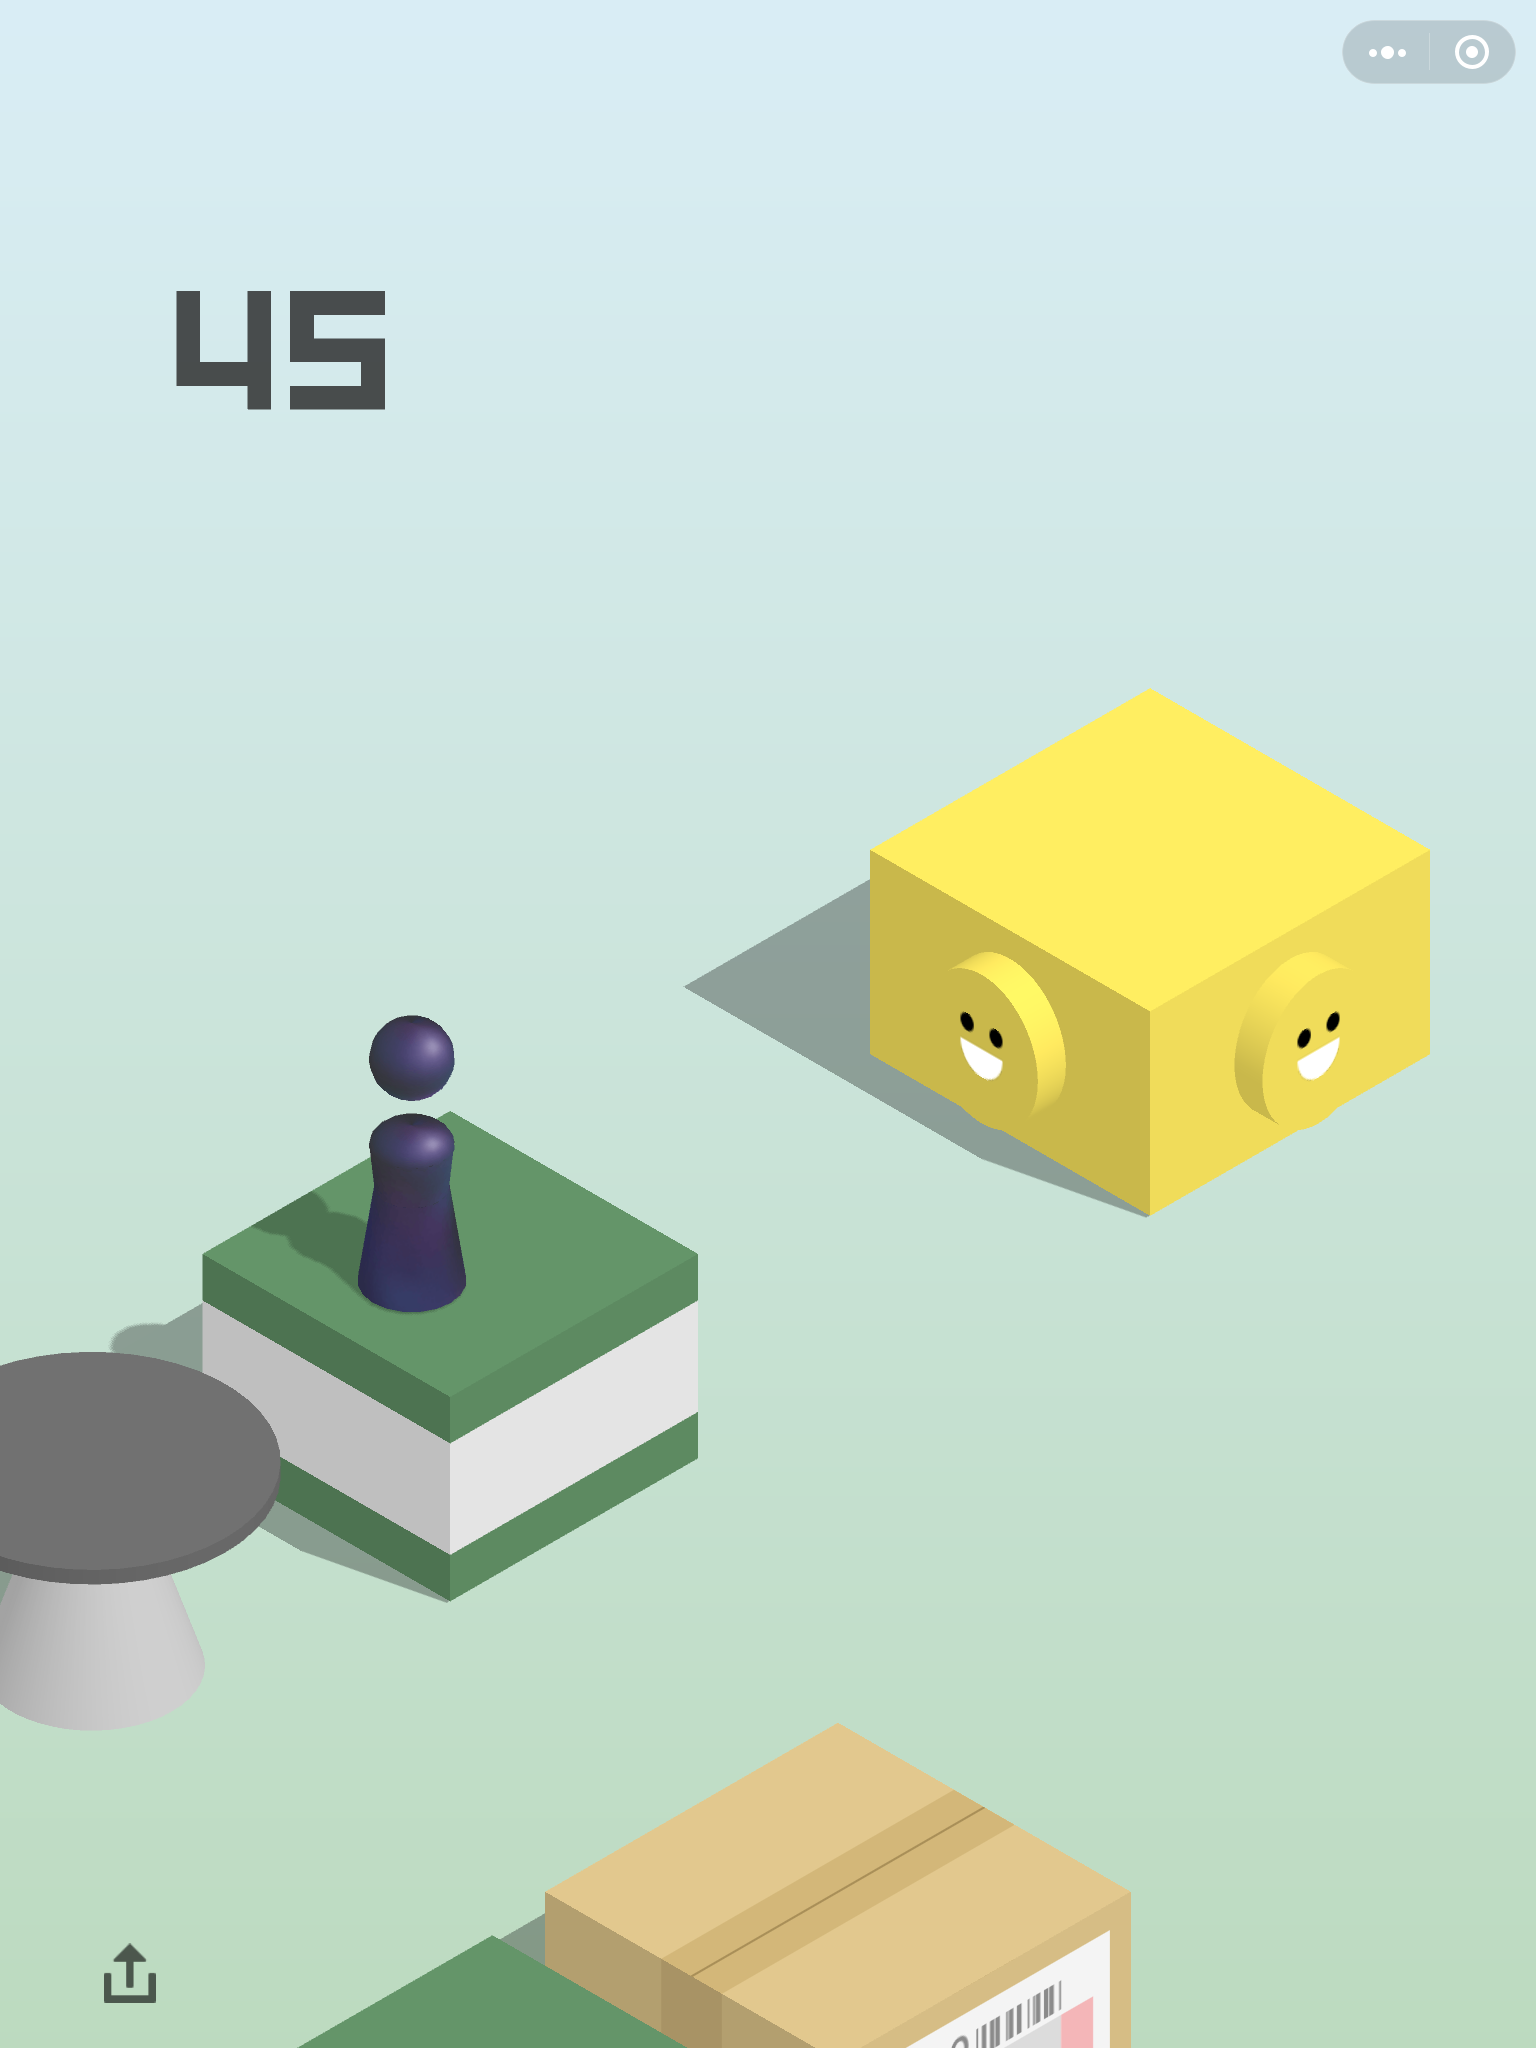c: (2, 1347, 287, 1738)
f: (863, 689, 1441, 1222), (197, 1101, 708, 1605), (544, 1716, 1139, 2048)
r: (349, 1009, 478, 1316)
